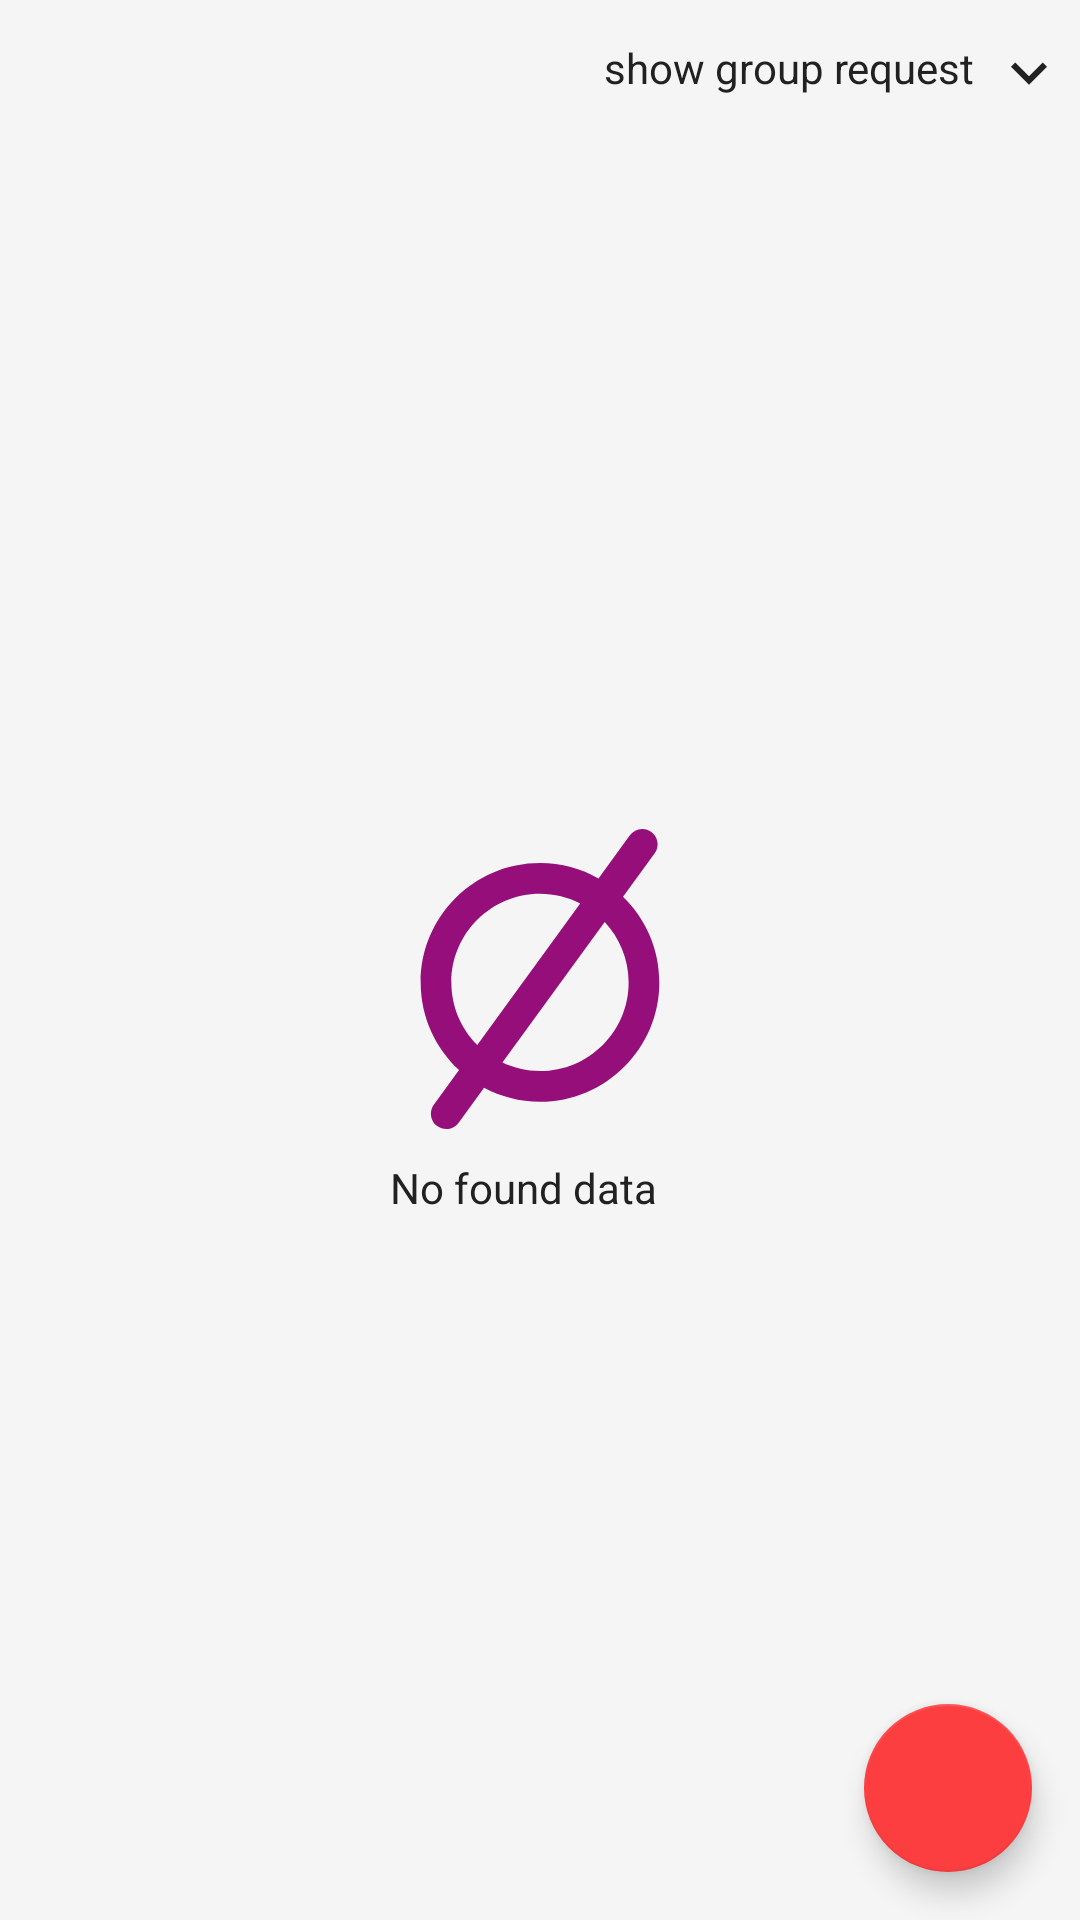

Screen size 1080 x 1920. Icon name, then its center in pixels as (x,y):
empty: (540,979)
